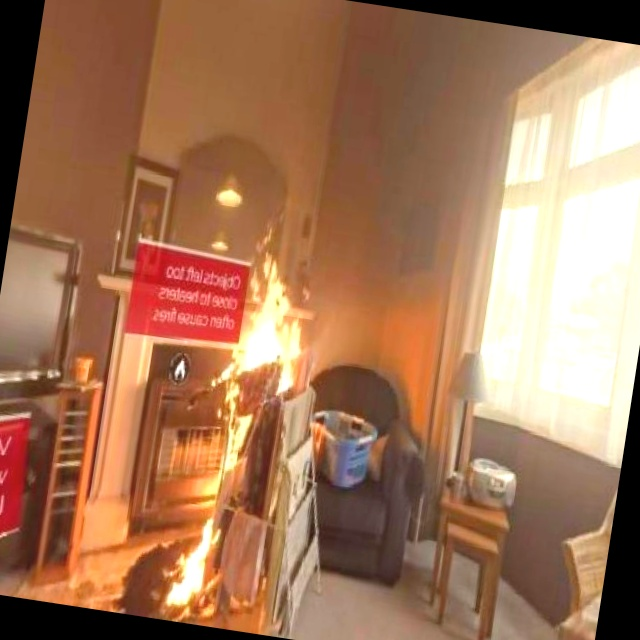fire: (210, 261, 310, 411)
